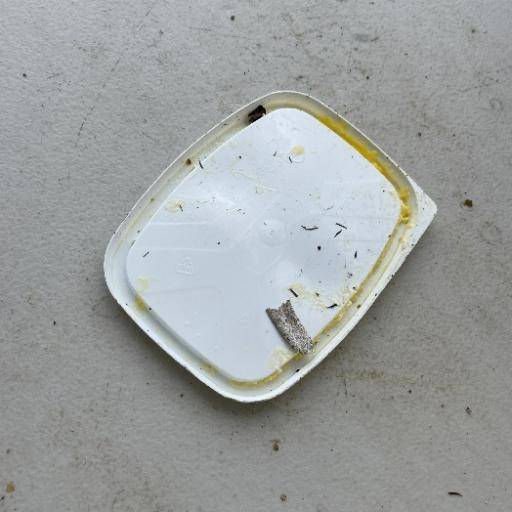Plastic: (100, 88, 438, 404)
